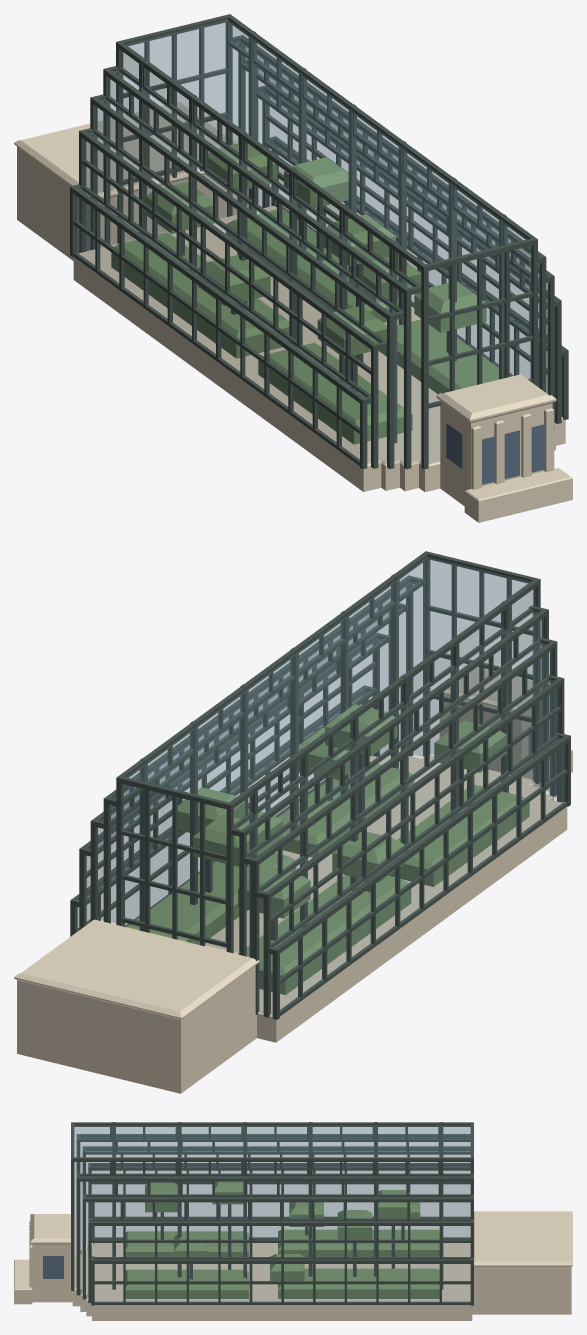
The model's file is stl-jewel-box.glb.
The picture shows the model from 3 angles, top to bottom: view 1: azimuth 30°, elevation 25°; view 2: azimuth 150°, elevation 25°; view 3: azimuth 270°, elevation 25°; orthographic projection. The views are drawn at different scales.
Parts seen in each view (by area): view 1: Jewel Box; view 2: Jewel Box; view 3: Jewel Box.
Part boxes in pixels (x1,y1,x2,y2): Jewel Box: (14, 14, 572, 522); Jewel Box: (14, 551, 572, 1093); Jewel Box: (14, 1122, 572, 1320).
Size of the model in its own units: 16.16 by 17 by 58.05.
